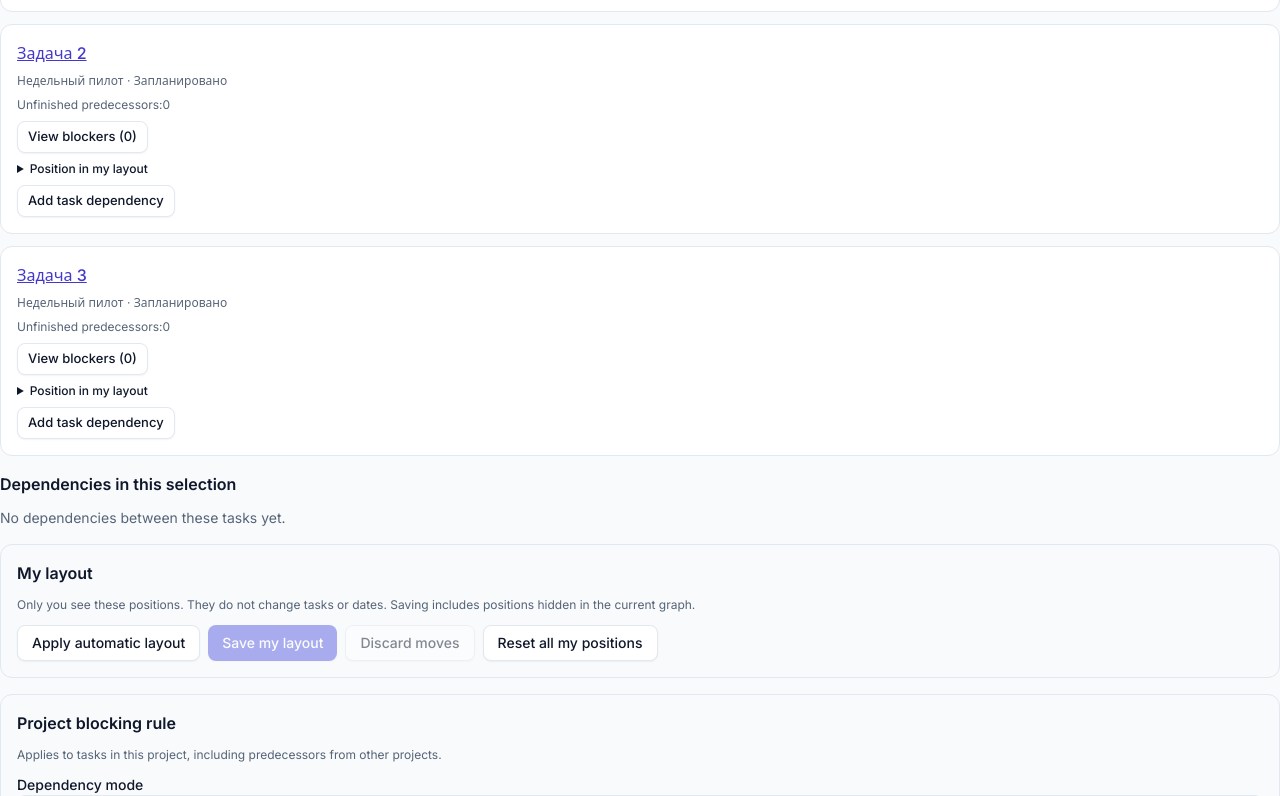
Test: cannot save a prior reset while automatic layout is loading, then saves every completed position
(page scrolled)
Click the button "Reset all my positions" at (570, 643), box [482,625,658,661]
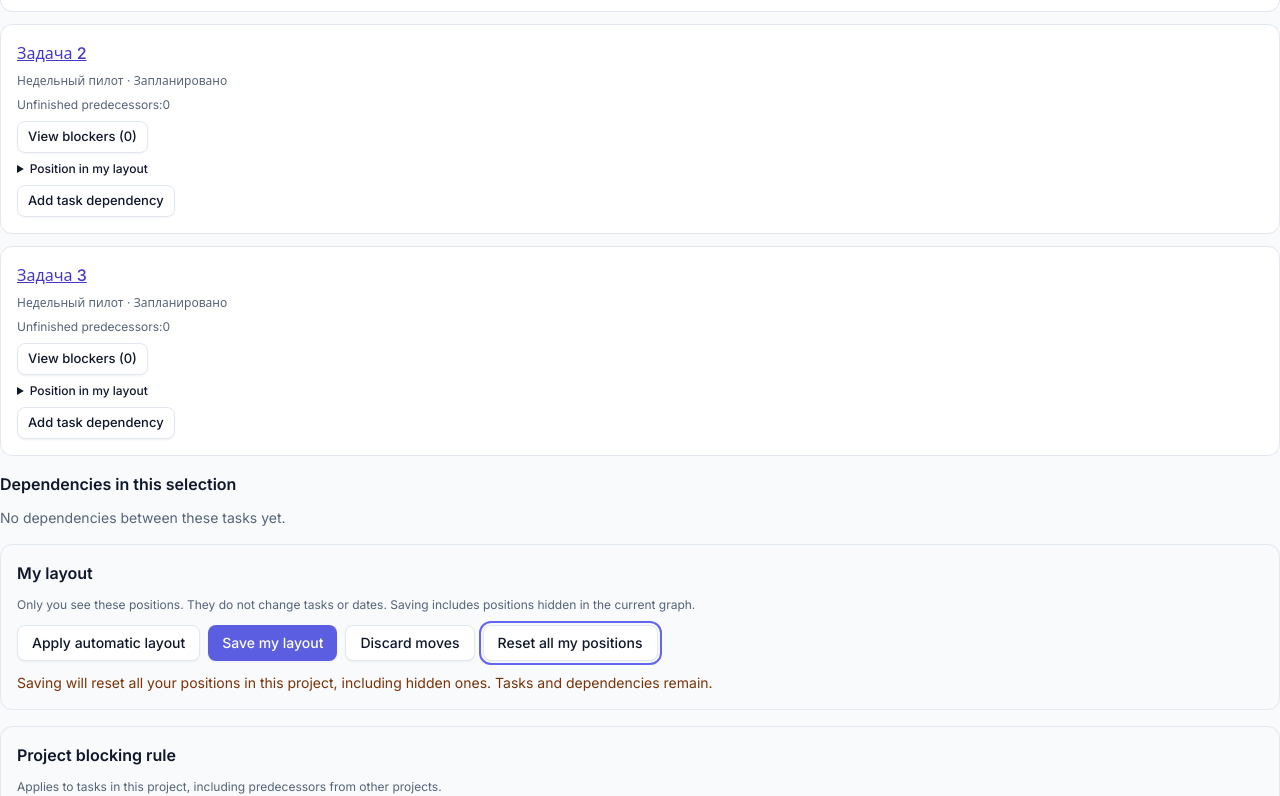
Expected: the button "Save my layout" is enabled, [208,625,338,661]
Click the button "Apply automatic layout" at (109, 643), box [17,625,200,661]
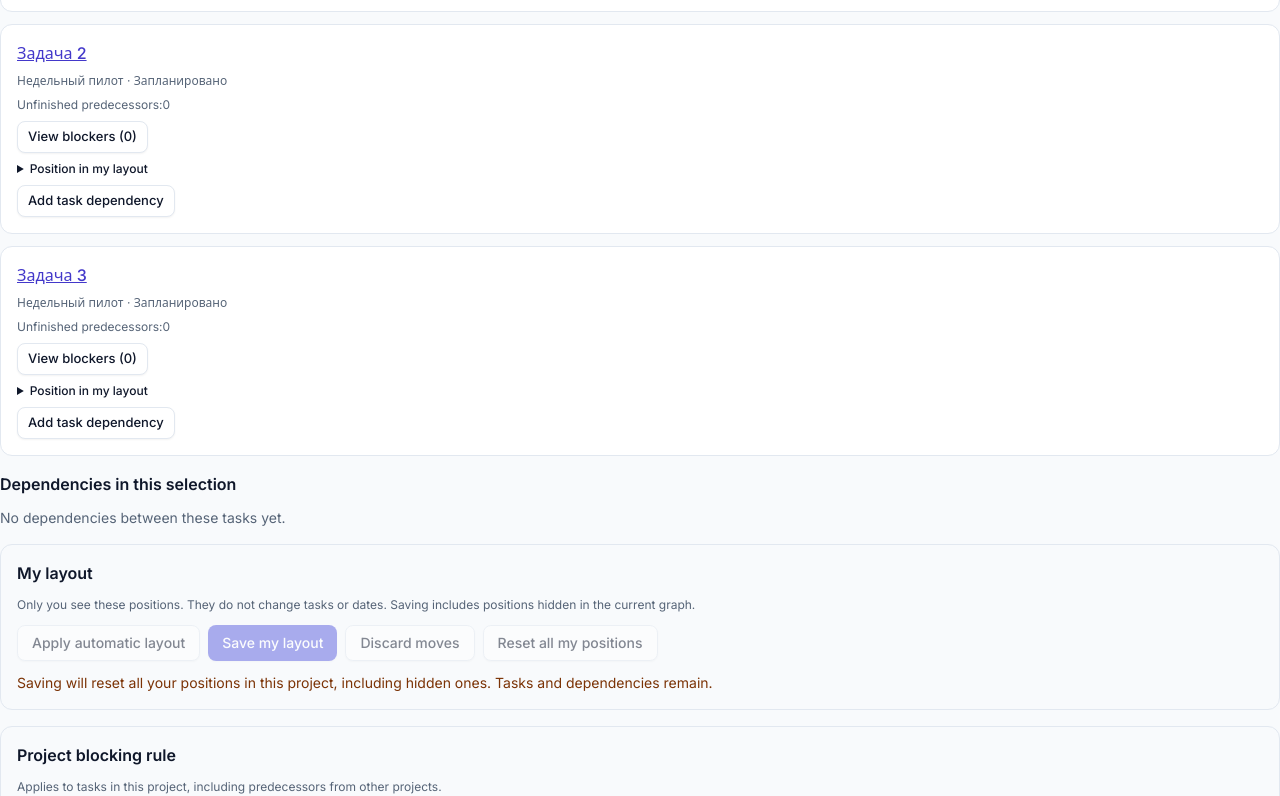
Expected: the button "Apply automatic layout" is disabled, [17,625,200,661]
Expected: the button "Save my layout" is disabled
Expected: the button "Reset all my positions" is disabled, [482,625,658,661]
Click the button "Save my layout" at (273, 643), box [208,625,338,661]
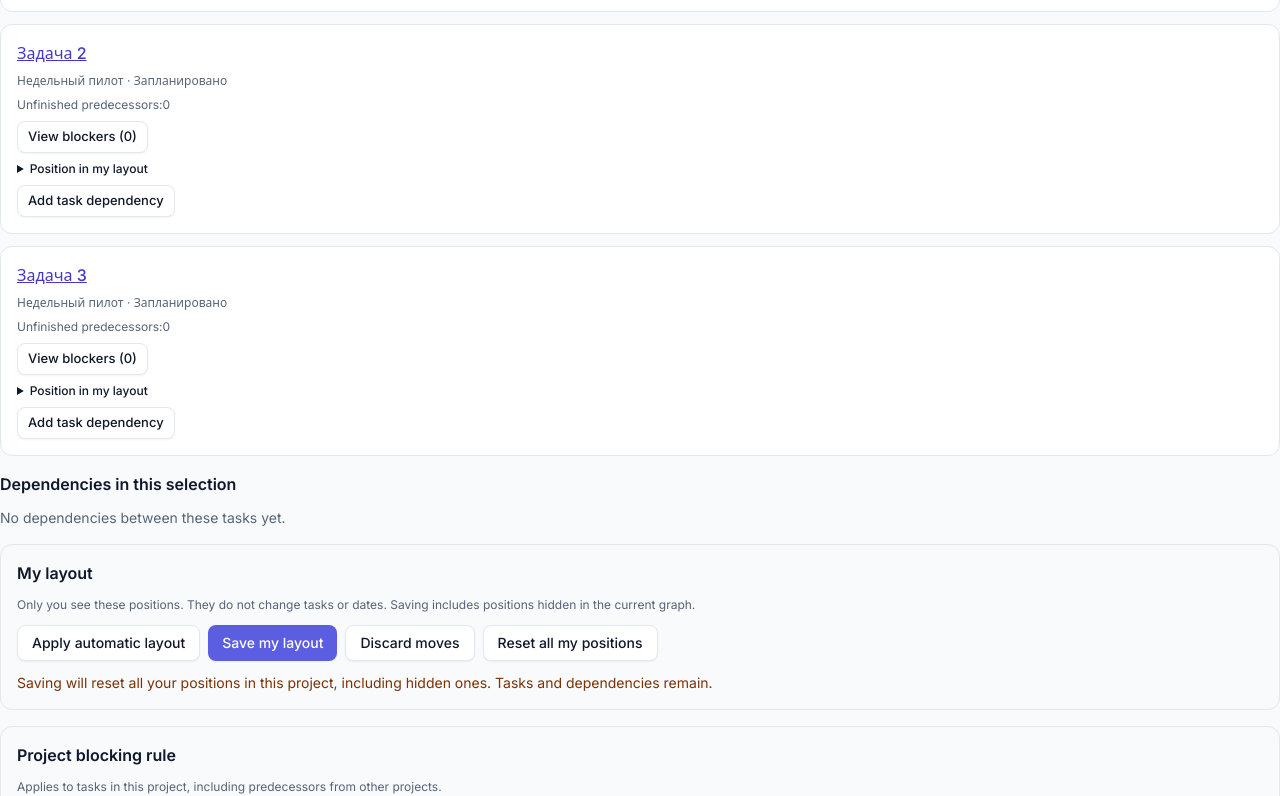
Expected: the button "Apply automatic layout" is enabled, [17,625,200,661]
Expected: the button "Save my layout" is enabled
Click the button "Save my layout" at (273, 643), box [208,625,338,661]
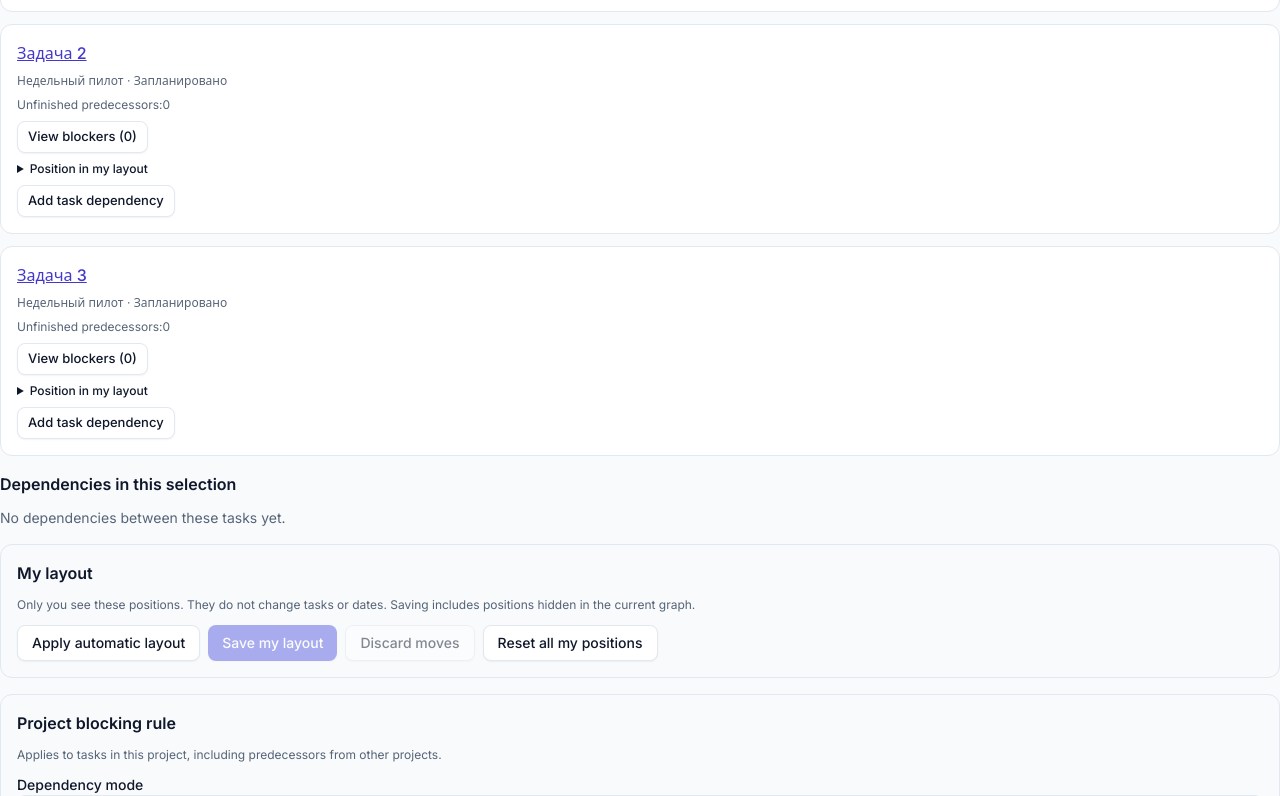
Expected: the button "Save my layout" is disabled, [208,625,338,661]
